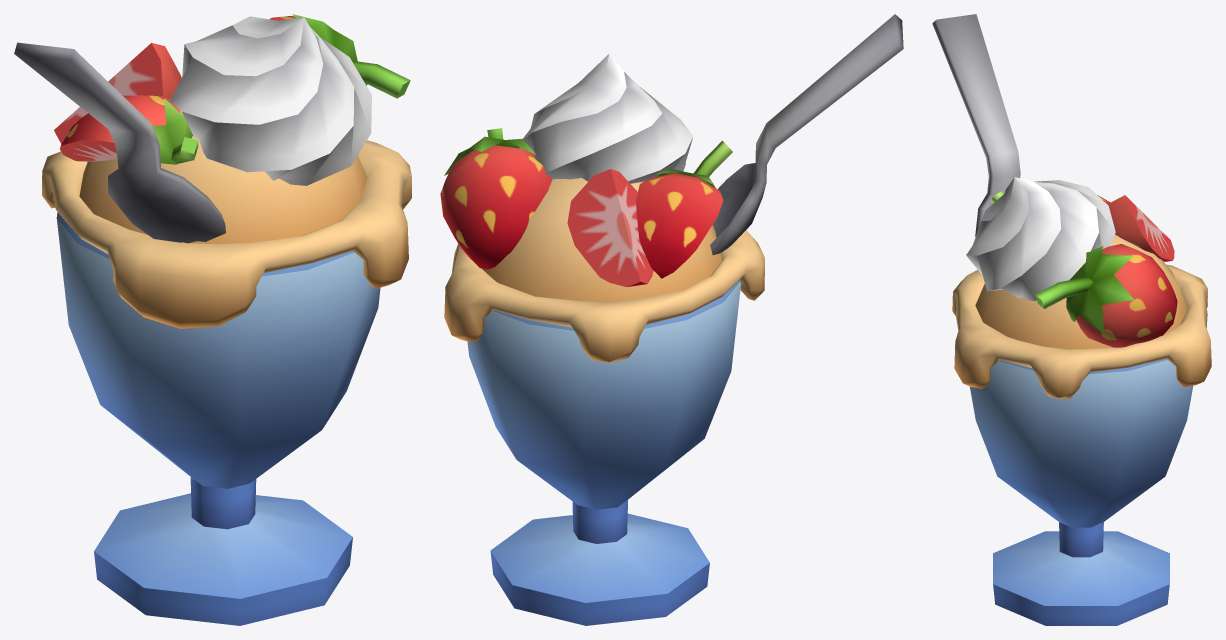
Rendered from m_IceCreamBowl05.fbx.
3 views of the same model, side by side, from view 1: azimuth 30°, elevation 25°; view 2: azimuth 150°, elevation 25°; view 3: azimuth 270°, elevation 25° (orthographic). The views are drawn at different scales.
Visible parts, largest first — view 1: m_IceCreamBowl05; view 2: m_IceCreamBowl05; view 3: m_IceCreamBowl05.
Part boxes in pixels (x1,y1,x2,y2): m_IceCreamBowl05: (14,14,411,625); m_IceCreamBowl05: (440,14,903,625); m_IceCreamBowl05: (932,14,1211,625).
Size of the model in its own units: 19.12 by 26.41 by 13.91.
